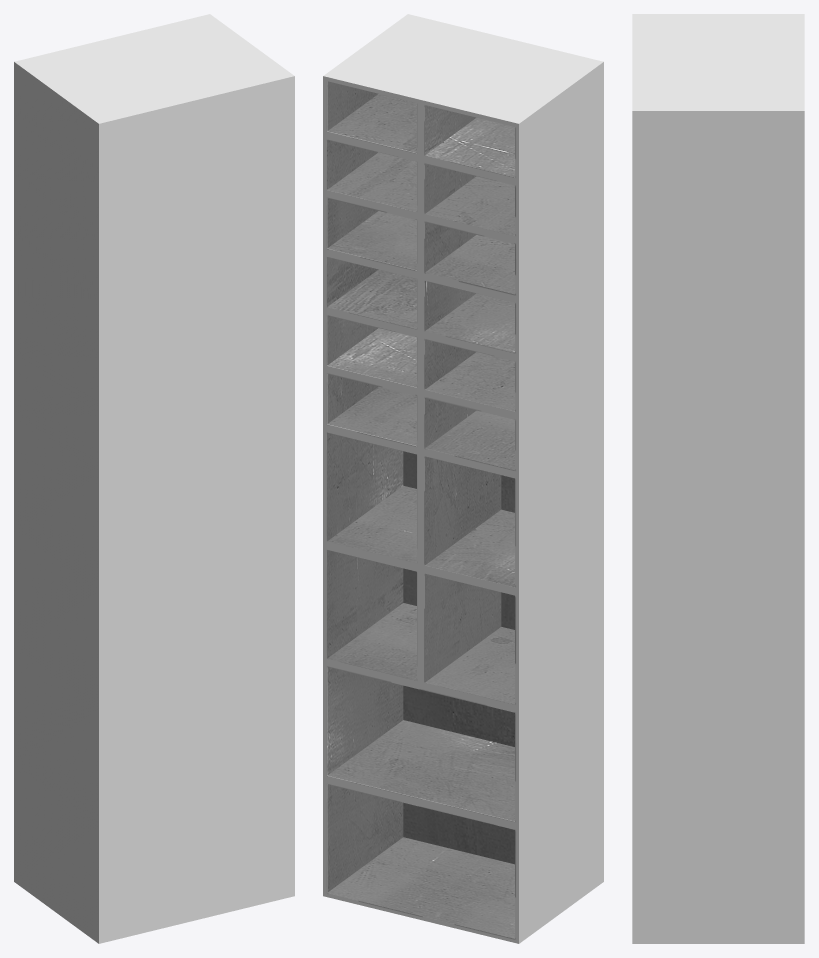
File: cabinet.glb
3 renders of one model, left to right at view 1: azimuth 30°, elevation 25°; view 2: azimuth 150°, elevation 25°; view 3: azimuth 270°, elevation 25°, orthographic.
Parts seen in each view (by area): view 1: Cabinet; view 2: Cabinet; view 3: Cabinet.
Part boxes in pixels (left/top/right/bottom): Cabinet: left=14, top=14, right=294, bottom=943; Cabinet: left=323, top=14, right=603, bottom=943; Cabinet: left=632, top=14, right=804, bottom=943.
Bounding box in the file's own units: 1 × 4 × 0.75.
Materials: 1 (1 with a texture image).
